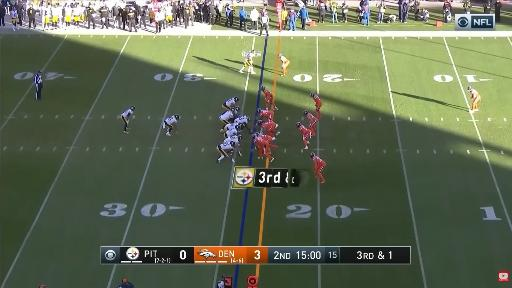Helmet: (237, 135, 242, 141), (303, 110, 309, 115), (230, 108, 236, 113), (254, 132, 259, 137), (235, 125, 240, 130), (234, 97, 239, 102), (252, 134, 257, 139), (467, 86, 472, 91), (257, 120, 262, 125), (296, 123, 302, 127), (230, 142, 235, 146), (257, 108, 261, 113), (310, 92, 314, 97), (311, 153, 315, 158), (175, 115, 180, 119), (130, 106, 135, 110), (235, 107, 239, 111), (261, 86, 265, 90), (247, 117, 250, 122), (279, 54, 282, 57), (252, 50, 254, 53)
Jersey: (163, 116, 177, 128), (164, 115, 178, 125), (244, 52, 254, 66), (259, 110, 274, 119), (262, 121, 275, 131), (313, 156, 325, 166), (224, 136, 239, 144), (263, 89, 273, 101), (235, 116, 248, 125), (220, 111, 233, 120), (255, 137, 268, 146), (220, 142, 233, 150), (224, 123, 237, 131), (226, 129, 239, 137), (299, 126, 310, 135), (122, 109, 133, 118), (307, 114, 318, 123), (225, 98, 235, 107), (313, 94, 321, 105), (260, 135, 272, 142), (470, 89, 479, 98), (246, 52, 254, 62), (280, 55, 288, 63)
Player: (254, 138, 274, 162), (311, 153, 325, 183), (120, 106, 135, 134), (253, 132, 277, 149), (219, 108, 236, 131), (296, 123, 311, 149), (261, 86, 277, 110), (217, 142, 235, 163), (224, 135, 242, 156), (303, 111, 318, 136), (240, 50, 255, 74), (257, 120, 279, 136), (468, 86, 481, 113), (163, 115, 180, 135), (310, 93, 322, 119), (234, 116, 251, 133), (279, 54, 290, 76), (257, 108, 274, 121), (223, 97, 239, 110), (224, 136, 241, 145), (224, 129, 239, 138), (221, 124, 239, 131), (234, 107, 240, 119)
